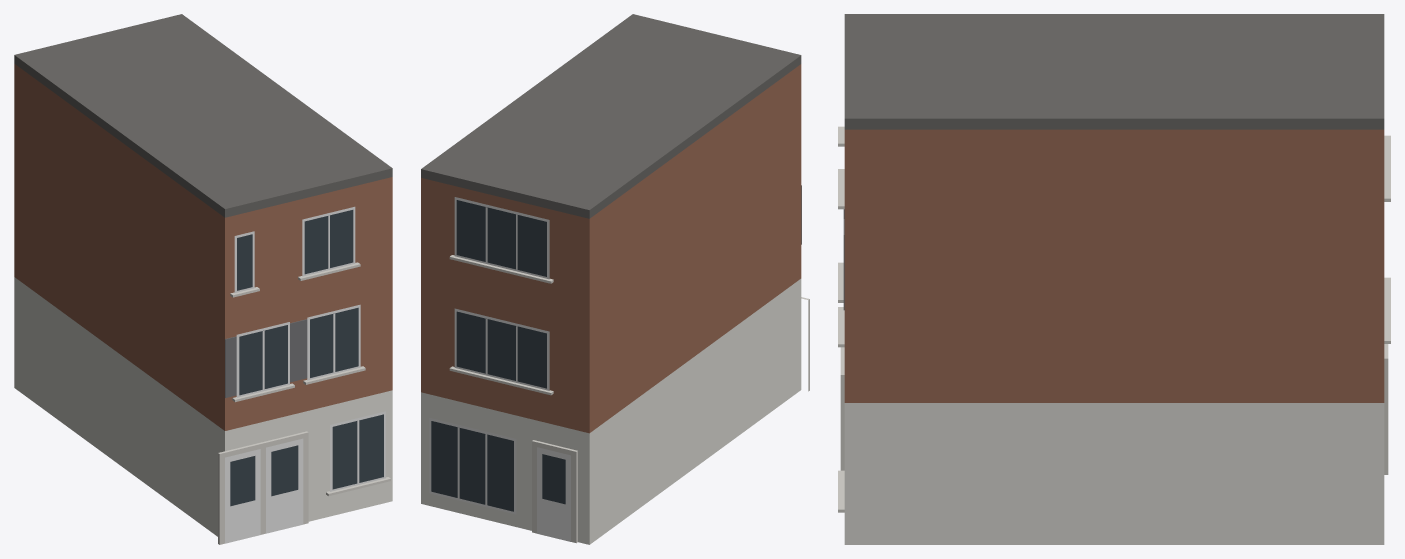
Rendered from nw-ns-red-three__red__3__flat__long__solid__mirror.glb.
3 views of the same model, side by side, from view 1: azimuth 30°, elevation 25°; view 2: azimuth 150°, elevation 25°; view 3: azimuth 270°, elevation 25° (orthographic). The views are drawn at different scales.
Visible parts, largest first — view 1: nw-ns-red-three__red__3__flat__long__solid__mirror; view 2: nw-ns-red-three__red__3__flat__long__solid__mirror; view 3: nw-ns-red-three__red__3__flat__long__solid__mirror.
Part boxes in pixels (x1,y1,x2,y2): nw-ns-red-three__red__3__flat__long__solid__mirror: [14, 14, 392, 544]; nw-ns-red-three__red__3__flat__long__solid__mirror: [421, 14, 809, 544]; nw-ns-red-three__red__3__flat__long__solid__mirror: [838, 14, 1390, 544].
Size of the model in its own units: 4.67 by 8.5 by 9.99.
